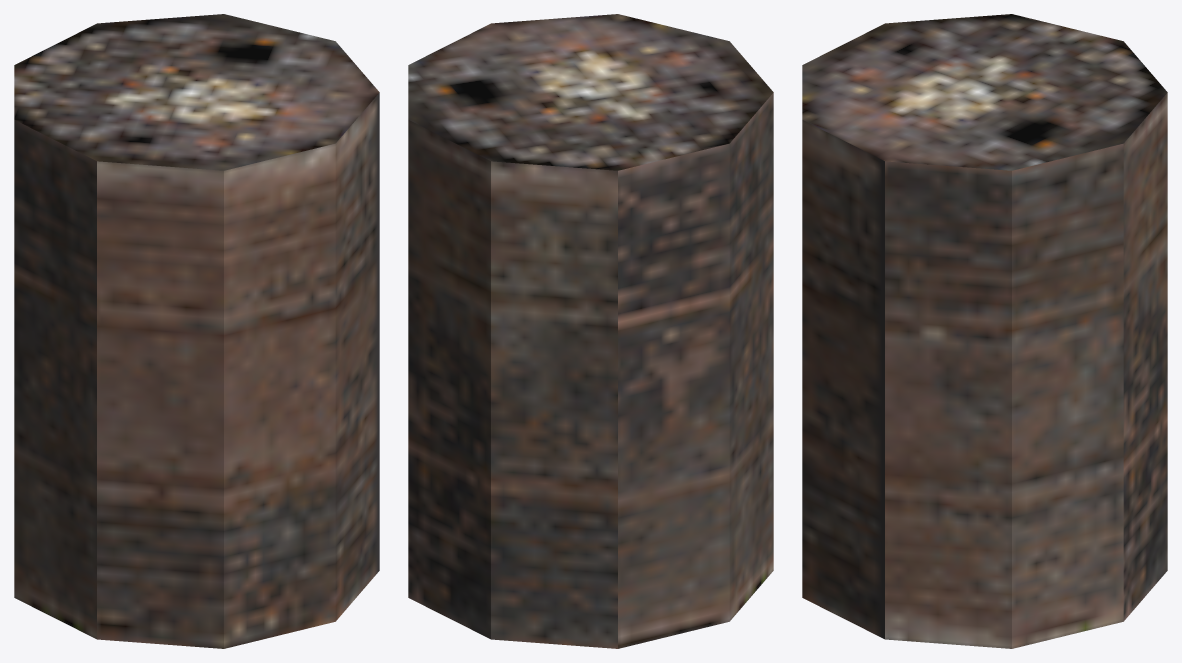
The model's file is Barrel.fbx.
3 views of the same model, side by side, from view 1: azimuth 30°, elevation 25°; view 2: azimuth 150°, elevation 25°; view 3: azimuth 270°, elevation 25° (orthographic).
Parts seen in each view (by area): view 1: Barrel; view 2: Barrel; view 3: Barrel.
Part boxes in pixels (x1=…): Barrel: x1=14, y1=14, x2=379, y2=648; Barrel: x1=408, y1=14, x2=773, y2=648; Barrel: x1=802, y1=14, x2=1167, y2=648.
Bounding box in the file's own units: 59.09 × 84 × 58.19.
Materials: 1 (1 with a texture image).
